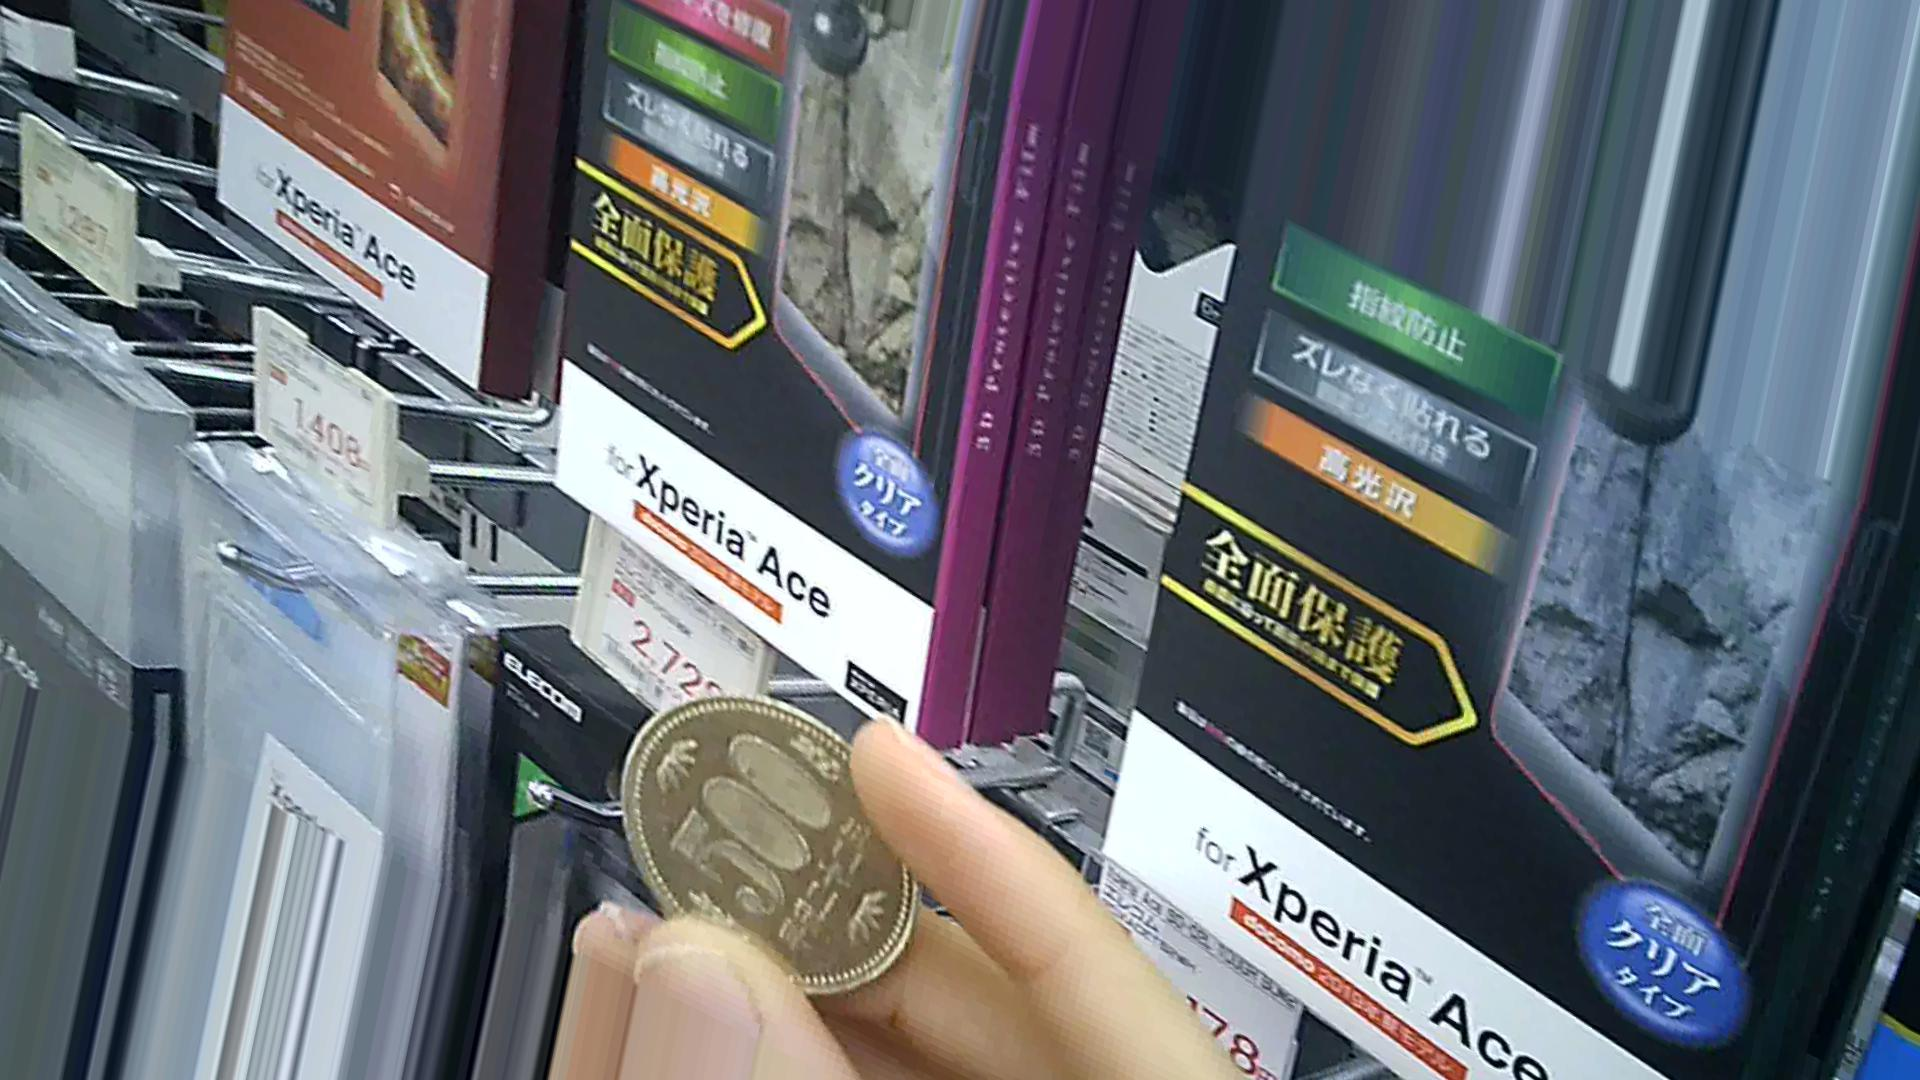500 Yen: (618, 679, 928, 1025)
